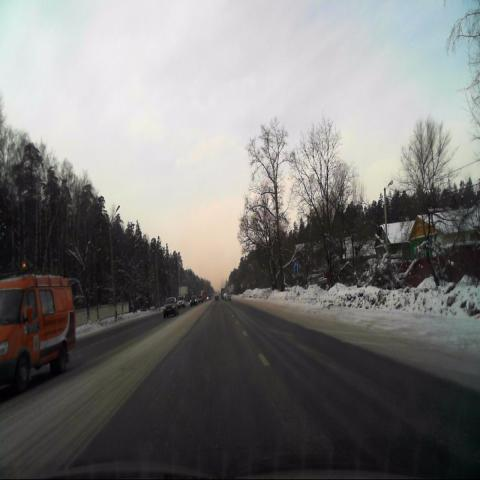5_15_5: (292, 261, 300, 273)
